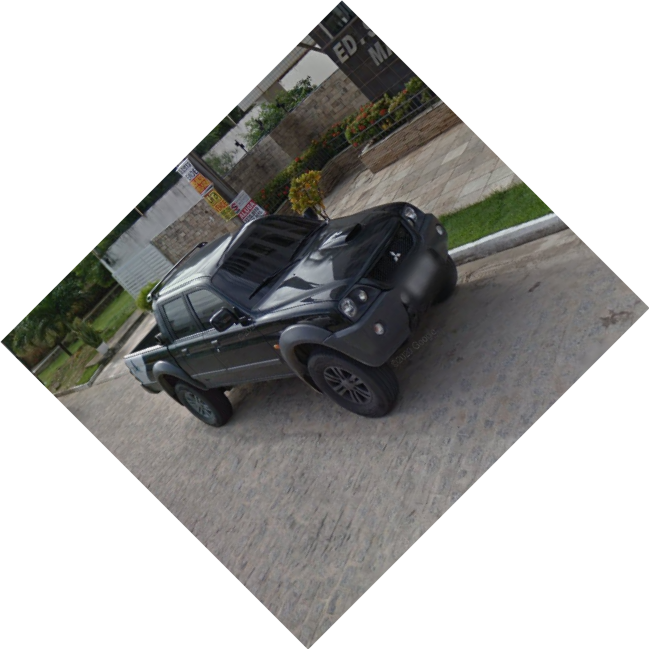car: (120, 199, 459, 430)
